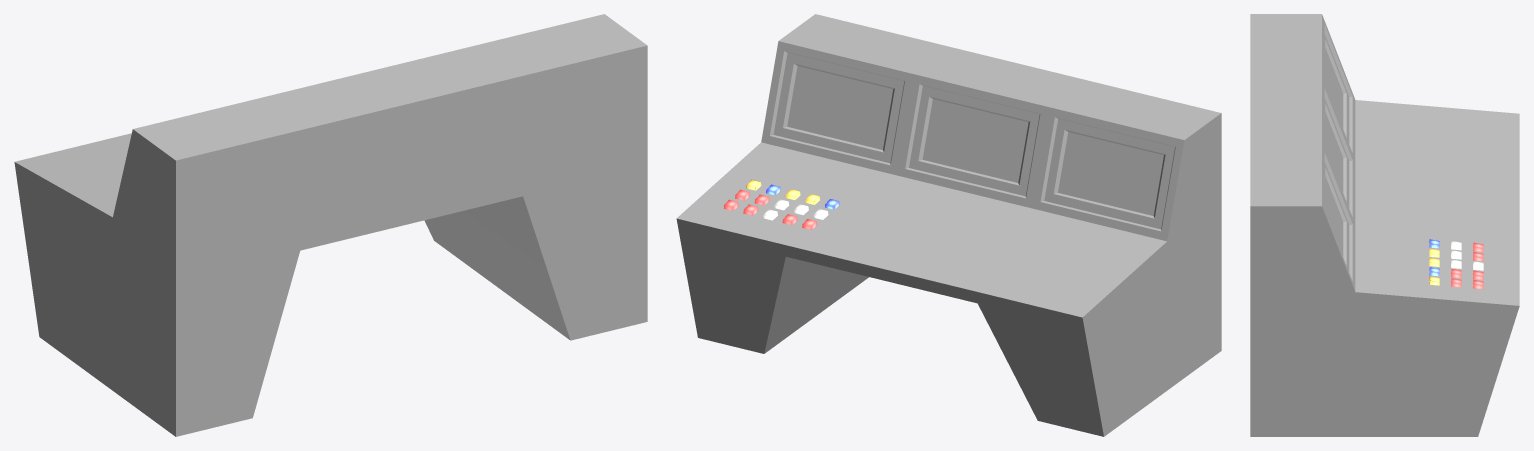
The model's file is SM_PROP_BENCHCONTROL_02.fbx.
3 renders of one model, left to right at view 1: azimuth 30°, elevation 25°; view 2: azimuth 150°, elevation 25°; view 3: azimuth 270°, elevation 25°, orthographic. The views are drawn at different scales.
Visible parts, largest first — view 1: SM_PROP_BENCHCONTROL_02; view 2: SM_PROP_BENCHCONTROL_02; view 3: SM_PROP_BENCHCONTROL_02.
Boxes of the visible parts, box(x1,y1,x2,y2) form: SM_PROP_BENCHCONTROL_02: box(14, 14, 647, 436); SM_PROP_BENCHCONTROL_02: box(676, 14, 1221, 436); SM_PROP_BENCHCONTROL_02: box(1250, 14, 1519, 436).
Bounding box in the file's own units: 3 × 1.68 × 1.78.
